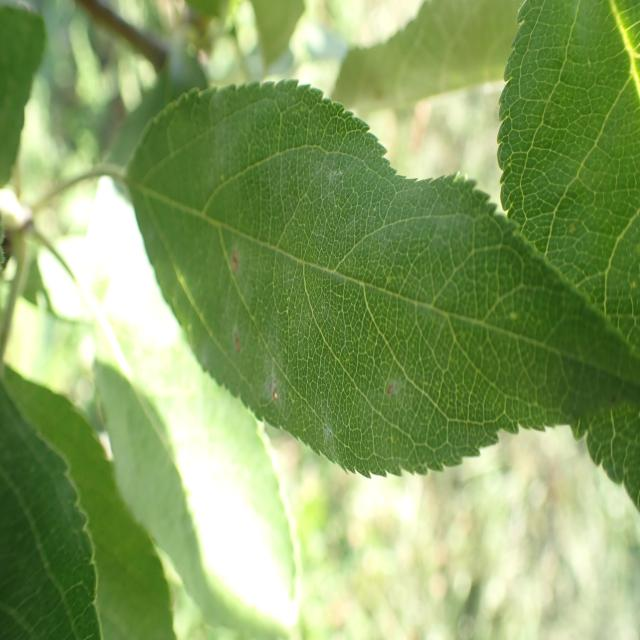Powdery_mildew: (105, 77, 546, 478)
